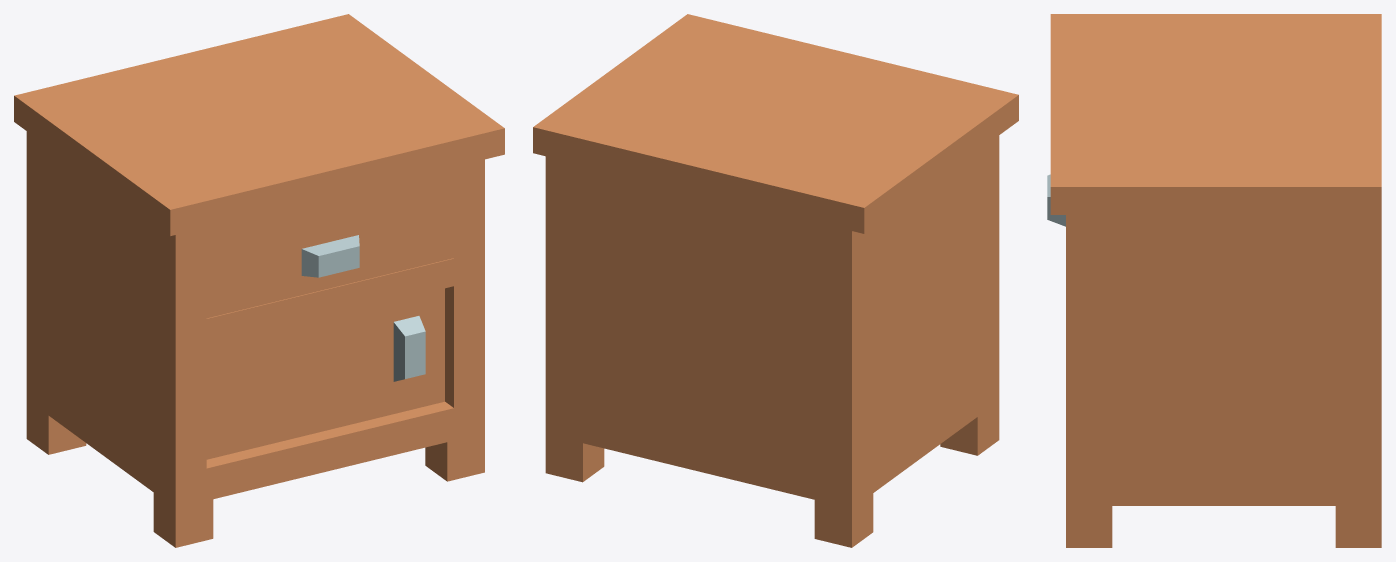
The model's file is Cabinet Bed Drawer.glb.
The picture shows the model from 3 angles, left to right: view 1: azimuth 30°, elevation 25°; view 2: azimuth 150°, elevation 25°; view 3: azimuth 270°, elevation 25°; orthographic projection. The views are drawn at different scales.
Parts seen in each view (by area): view 1: cabinetBedDrawer(Clone), door, drawer; view 2: cabinetBedDrawer(Clone); view 3: cabinetBedDrawer(Clone).
Boxes of the visible parts, x1,y1,x2,y2 form: cabinetBedDrawer(Clone): (14, 14, 504, 547); door: (206, 288, 444, 459); drawer: (206, 192, 453, 318); cabinetBedDrawer(Clone): (533, 14, 1018, 547); cabinetBedDrawer(Clone): (1050, 14, 1381, 547).
Size of the model in its own units: 0.266 by 0.2632 by 0.2173.
